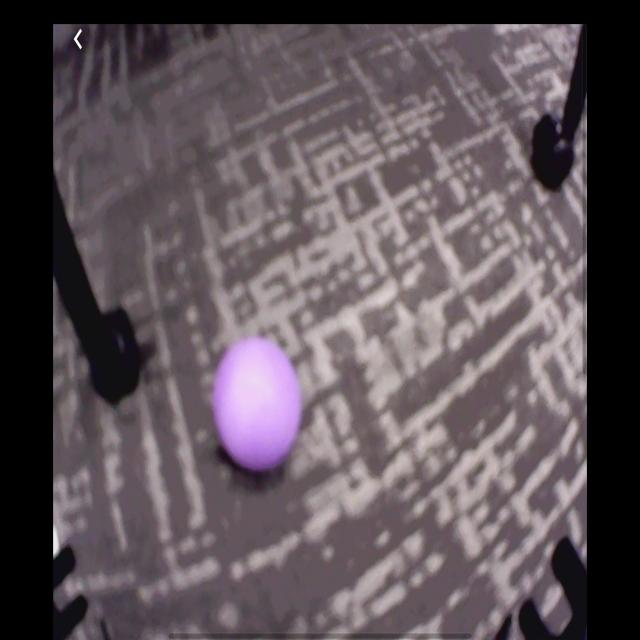ball: (211, 336, 301, 477)
